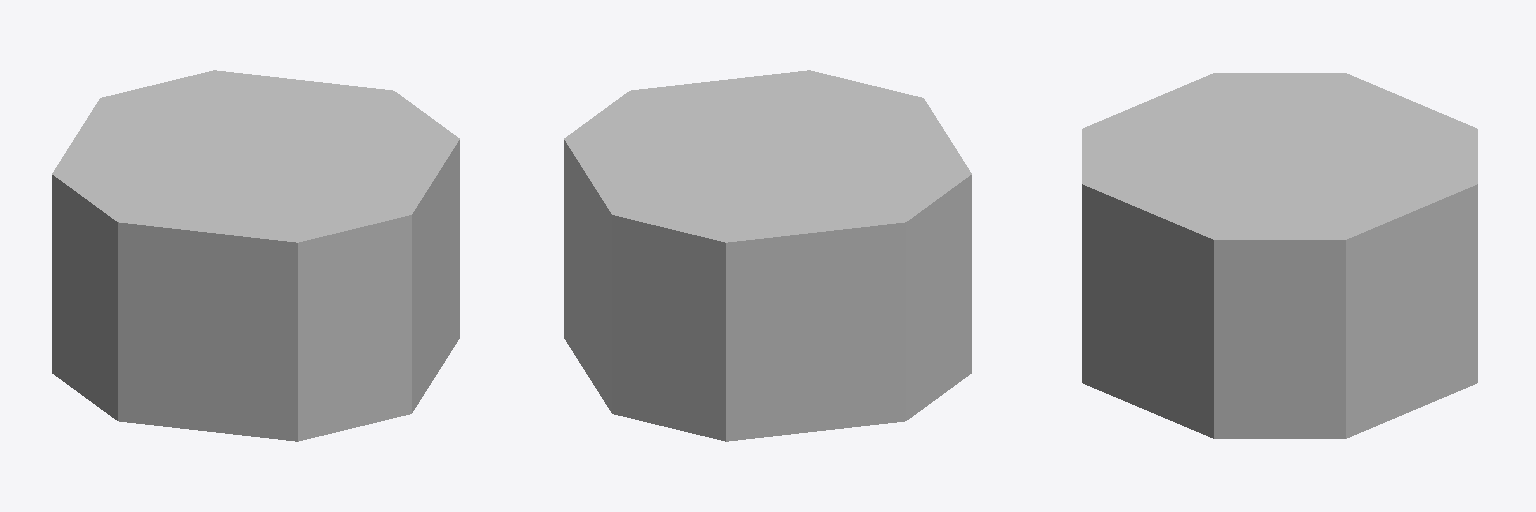
The model's file is sewer_dungeon1.obj.
The picture shows the model from 3 angles: view 1: azimuth 30°, elevation 25°; view 2: azimuth 150°, elevation 25°; view 3: azimuth 270°, elevation 25°; orthographic projection.
Visible parts, largest first — view 1: Cube; view 2: Cube; view 3: Cube.
Part boxes in pixels (left/top/right/bottom): Cube: left=52, top=70, right=459, bottom=441; Cube: left=564, top=70, right=971, bottom=441; Cube: left=1082, top=73, right=1477, bottom=438.
Size of the model in its own units: 9 by 5 by 9.